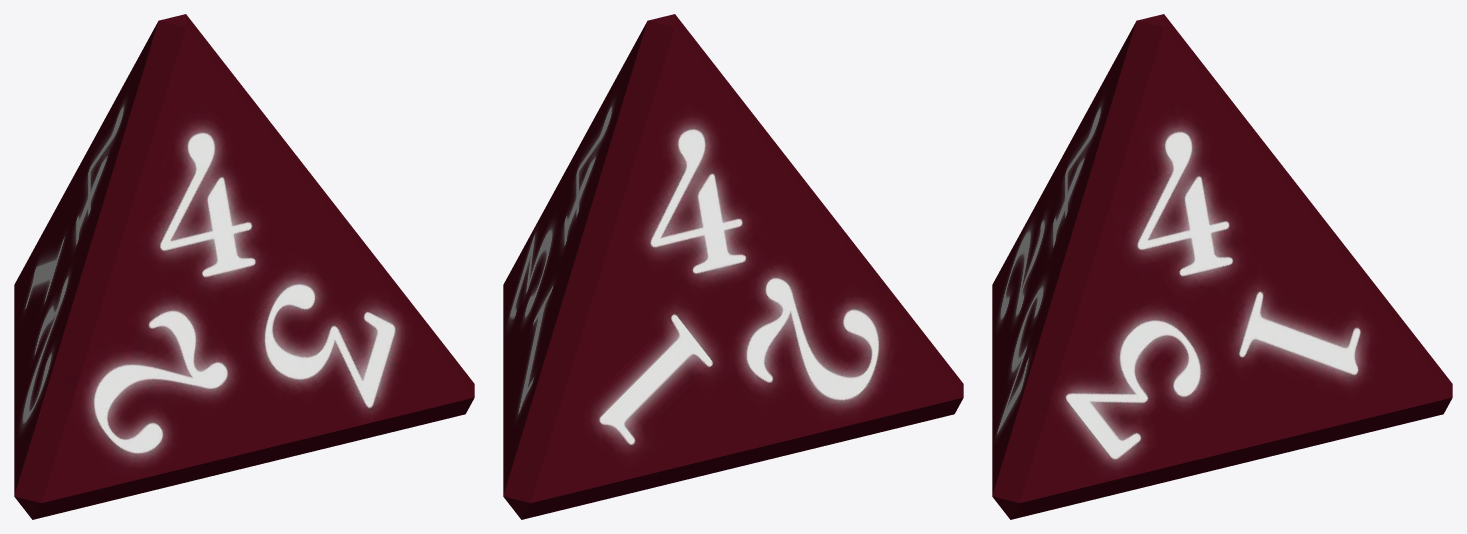
Rendered from D4Disadvantage.glb.
3 views of the same model, side by side, from view 1: azimuth 30°, elevation 25°; view 2: azimuth 150°, elevation 25°; view 3: azimuth 270°, elevation 25° (orthographic).
Parts seen in each view (by area): view 1: D4Disadvantage; view 2: D4Disadvantage; view 3: D4Disadvantage.
Part boxes in pixels (x1=…): D4Disadvantage: x1=14, y1=14, x2=474, y2=519; D4Disadvantage: x1=503, y1=14, x2=963, y2=519; D4Disadvantage: x1=992, y1=14, x2=1452, y2=519.
Size of the model in its own units: 3.17 by 2.59 by 2.75.
Materials: 1 (1 with a texture image).
